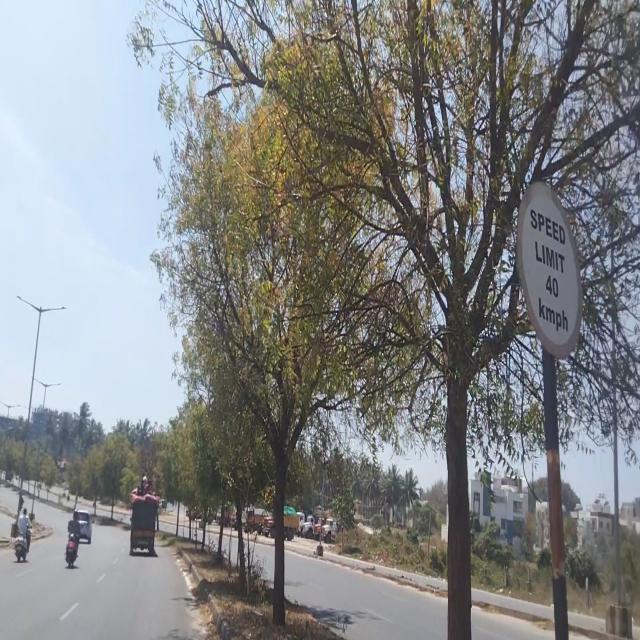bien_cam: (516, 174, 586, 361)
